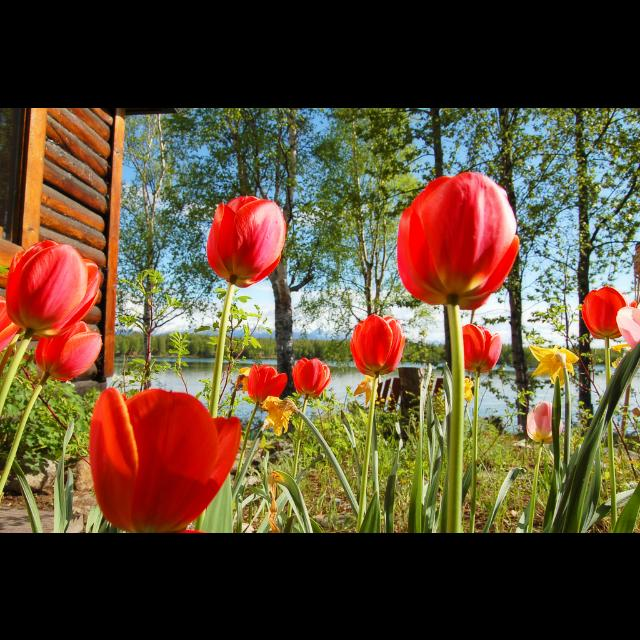Flower: (87, 379, 243, 521), (395, 169, 521, 311), (0, 237, 106, 329), (204, 193, 288, 287), (32, 315, 102, 383), (348, 310, 408, 374), (580, 282, 636, 338), (528, 341, 580, 387), (464, 323, 506, 373), (524, 399, 566, 445), (247, 362, 289, 404), (291, 354, 329, 398), (260, 396, 294, 436), (0, 295, 20, 355), (612, 305, 640, 347), (352, 374, 374, 404), (235, 362, 253, 383), (465, 376, 475, 402)
